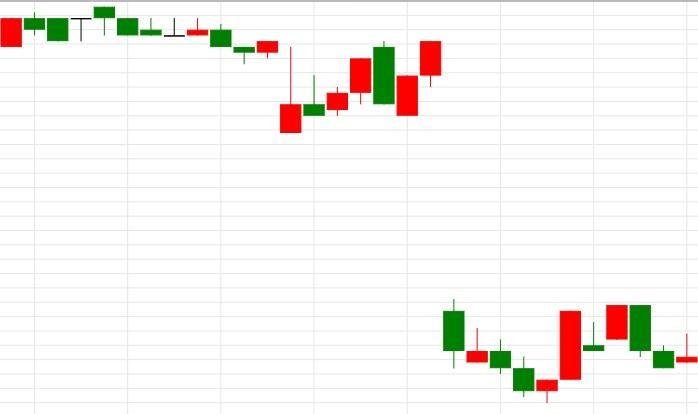inverse_hammer_rise: (94, 7, 301, 133)
